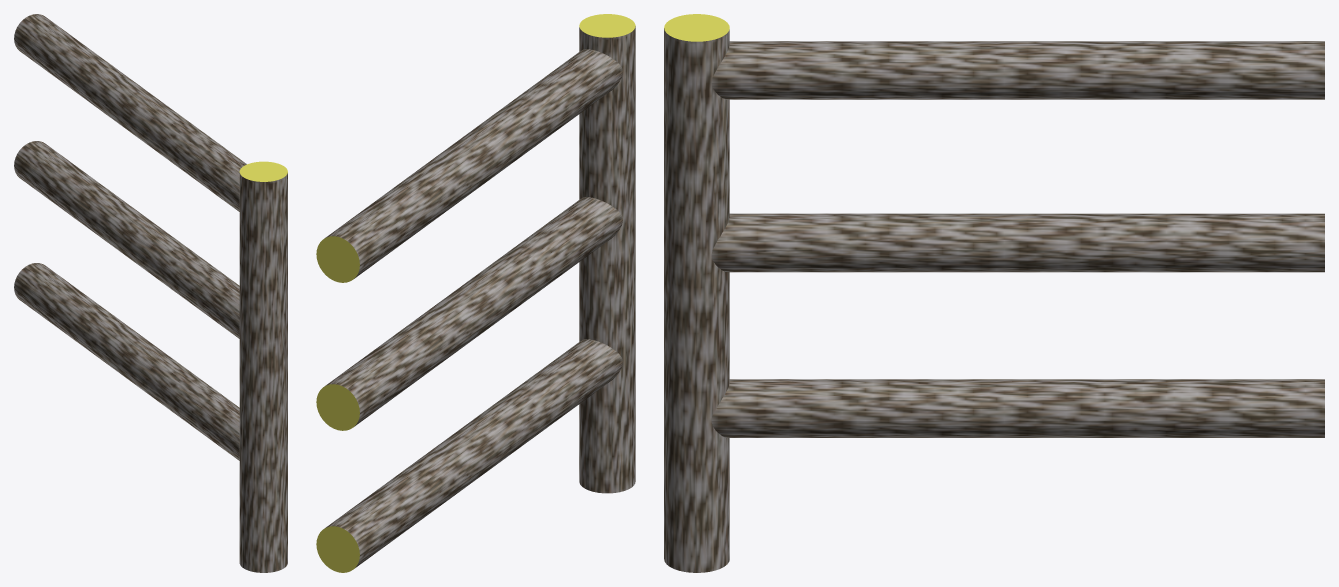
File: Fence01.fbx
3 renders of one model, left to right at view 1: azimuth 30°, elevation 25°; view 2: azimuth 150°, elevation 25°; view 3: azimuth 270°, elevation 25°, orthographic. The views are drawn at different scales.
Visible parts, largest first — view 1: 柵02.001; view 2: 柵02.001; view 3: 柵02.001.
Boxes of the visible parts, x1,y1,x2,y2 form: 柵02.001: (14,14,287,572); 柵02.001: (316,14,635,572); 柵02.001: (664,14,1324,572).
Size of the model in its own units: 7.84 by 70 by 78.9.
2 materials, 1 textured.
